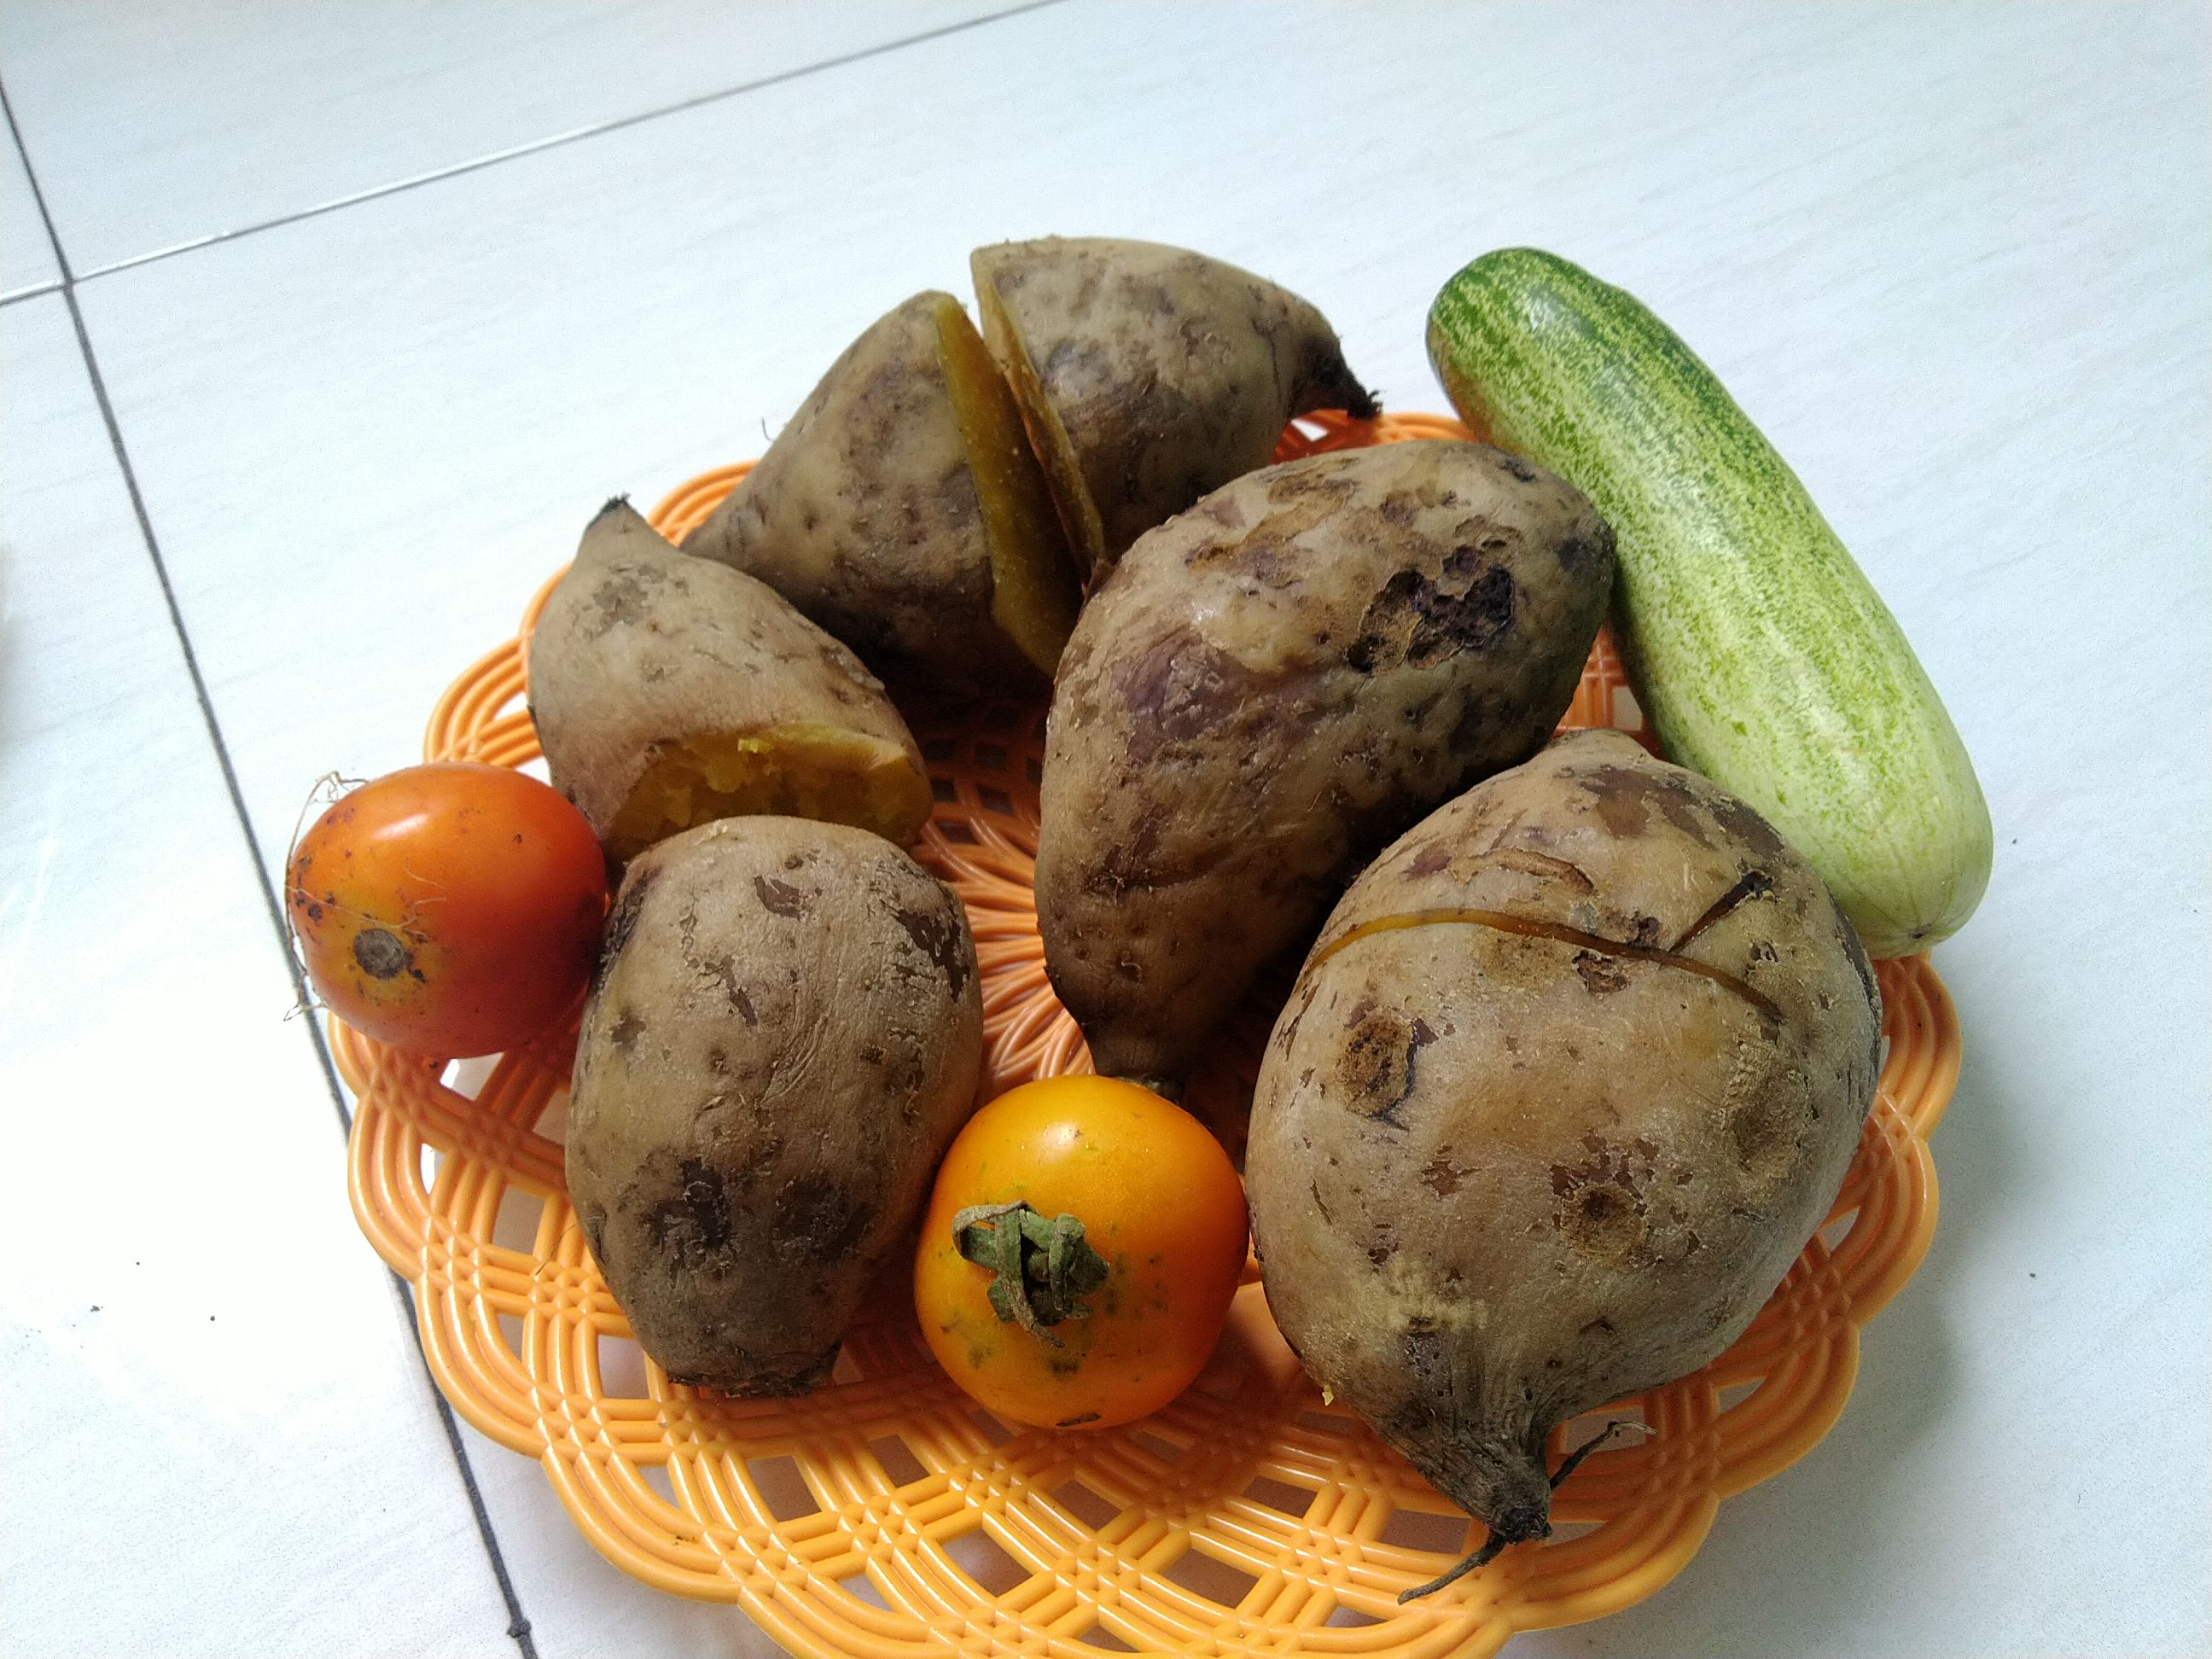ubi kuning: (1244, 716, 1869, 1565), (1040, 444, 1623, 1054), (585, 842, 979, 1389), (678, 293, 1054, 718), (954, 209, 1367, 558), (533, 505, 939, 852)
